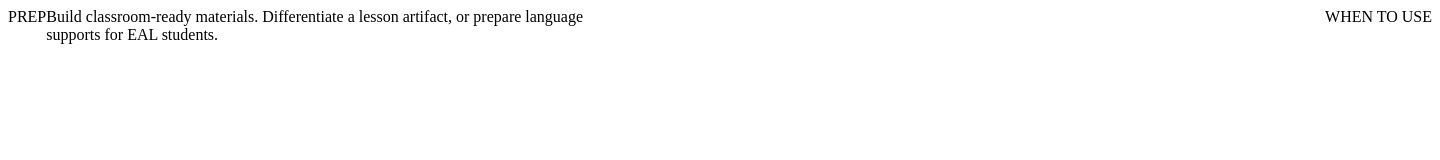
Test: PrepSectionIntro › reveals the when-to-use guidance on expand
The image size is (1440, 160).
Expected: the text "use differentiate when" is not shown
Step 1. Click the button "When to use" → (1378, 17), box [1325,8,1432,26]
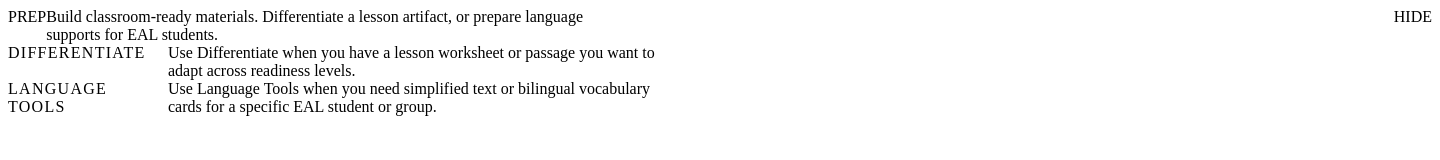
Now the text "Use Differentiate when" is shown, box [168,44,655,79]
Now the text "Use Language Tools when" is shown, box [168,80,650,115]
